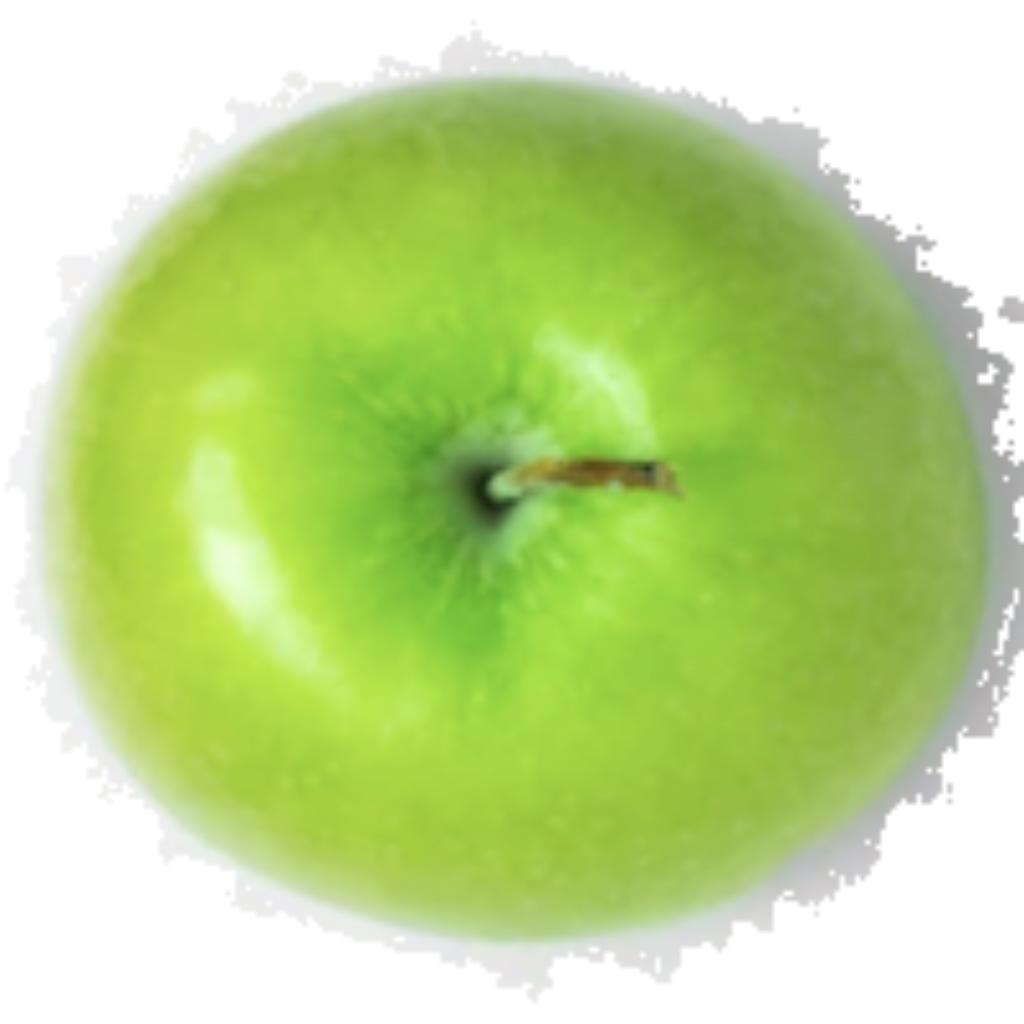apple: (0, 15, 1019, 1004)
